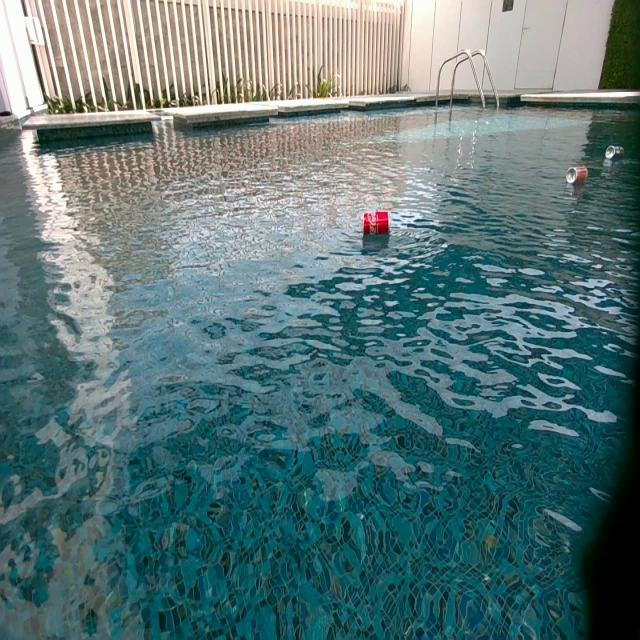Cans: (362, 211, 388, 236), (565, 166, 587, 186), (604, 145, 623, 160)
